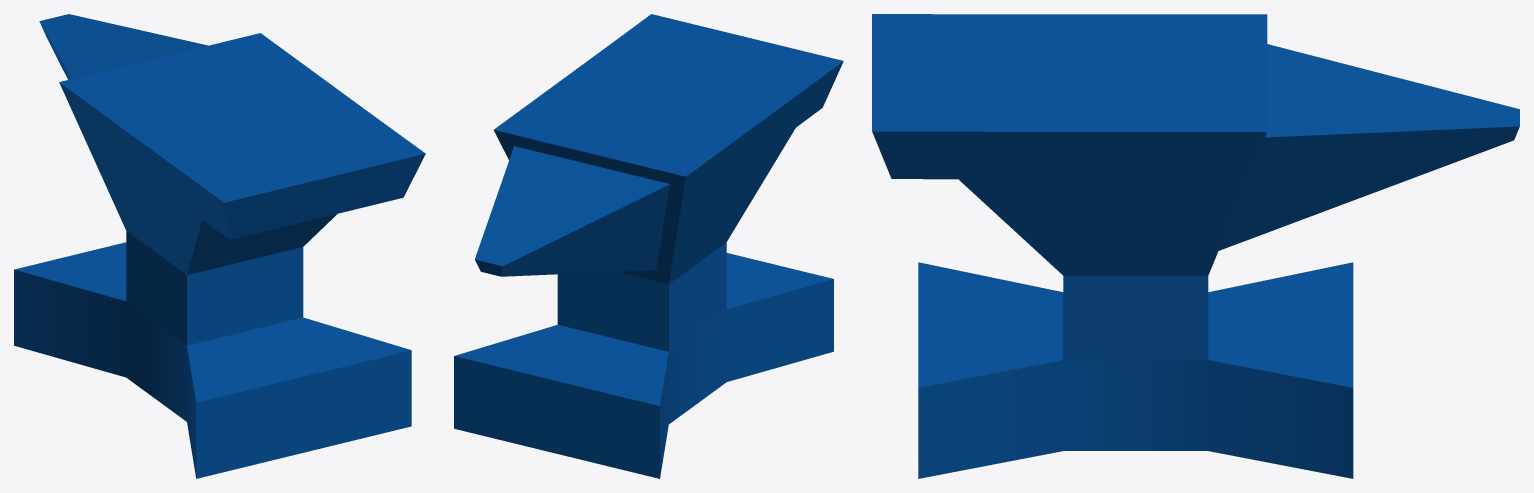
The model's file is Anvil.FBX.
3 views of the same model, side by side, from view 1: azimuth 30°, elevation 25°; view 2: azimuth 150°, elevation 25°; view 3: azimuth 270°, elevation 25° (orthographic). The views are drawn at different scales.
Parts seen in each view (by area): view 1: Box001; view 2: Box001; view 3: Box001.
Part boxes in pixels (left/top/right/bottom): Box001: left=14, top=14, right=425, bottom=478; Box001: left=454, top=14, right=843, bottom=478; Box001: left=872, top=14, right=1519, bottom=478.
Size of the model in its own units: 7.4 by 9.46 by 16.12.
1 material, 1 textured.
